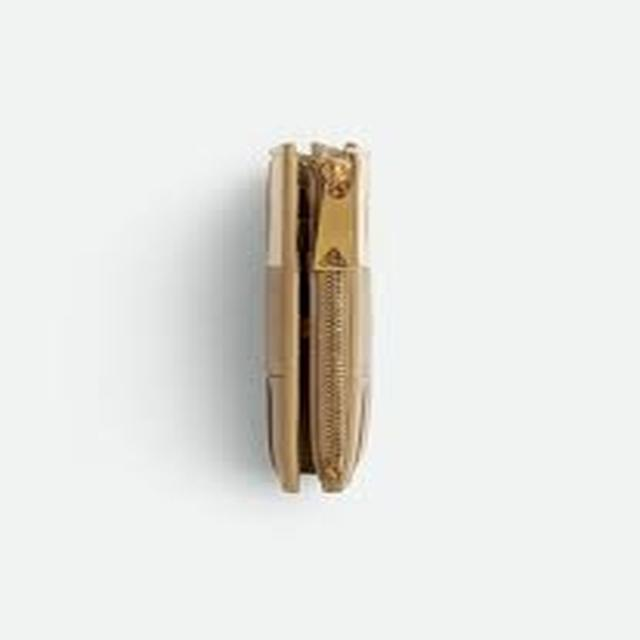wallet: (236, 122, 382, 509)
